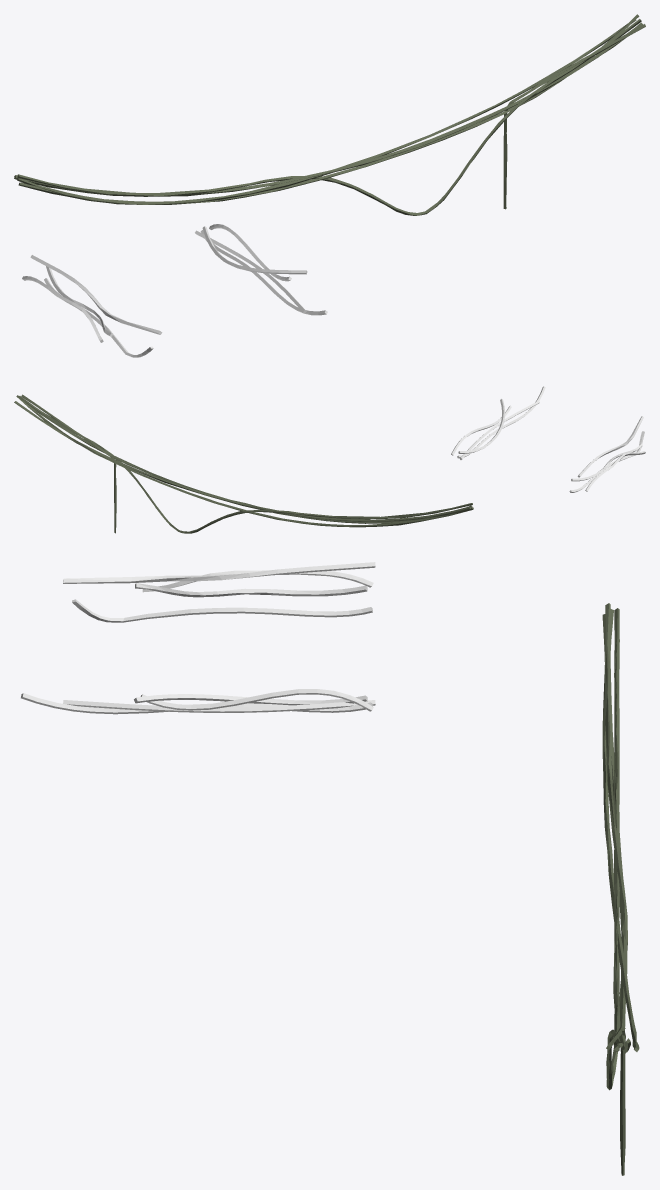
Rendered from Vines.fbx.
3 renders of one model, top to bottom at view 1: azimuth 30°, elevation 25°; view 2: azimuth 150°, elevation 25°; view 3: azimuth 270°, elevation 25°, orthographic. The views are drawn at different scales.
Visible parts, largest first — view 1: Vines 1, Vines 2, Hanging Vines 1, Hanging Vines 2; view 2: Vines 1, Vines 2, Hanging Vines 1, Hanging Vines 2; view 3: Hanging Vines 2, Hanging Vines 1, Vines 2, Vines 1.
Boxes of the visible parts, box(x1,y1,x2,y2) form: Vines 1: box(14, 14, 639, 204); Vines 2: box(14, 19, 645, 215); Hanging Vines 1: box(195, 224, 327, 315); Hanging Vines 2: box(22, 255, 162, 357); Vines 1: box(14, 395, 473, 527); Vines 2: box(19, 394, 472, 533); Hanging Vines 1: box(451, 386, 545, 459); Hanging Vines 2: box(569, 416, 645, 492); Hanging Vines 2: box(63, 562, 375, 622); Hanging Vines 1: box(21, 689, 375, 714); Vines 2: box(605, 603, 627, 1175); Vines 1: box(602, 608, 639, 1052).
Bounding box in the file's own units: 904 × 196 × 476.
